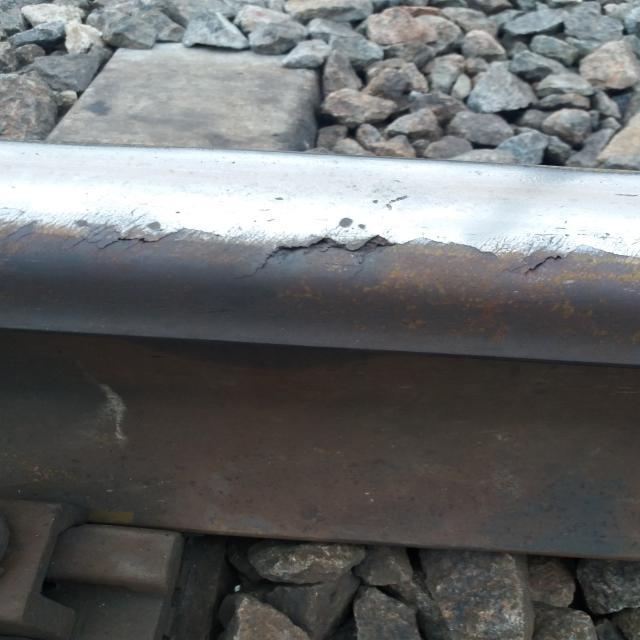squats_high: (370, 192, 410, 210), (337, 216, 369, 233), (145, 218, 163, 232)
squats_low: (240, 233, 400, 279), (524, 242, 638, 276), (69, 225, 222, 249)
